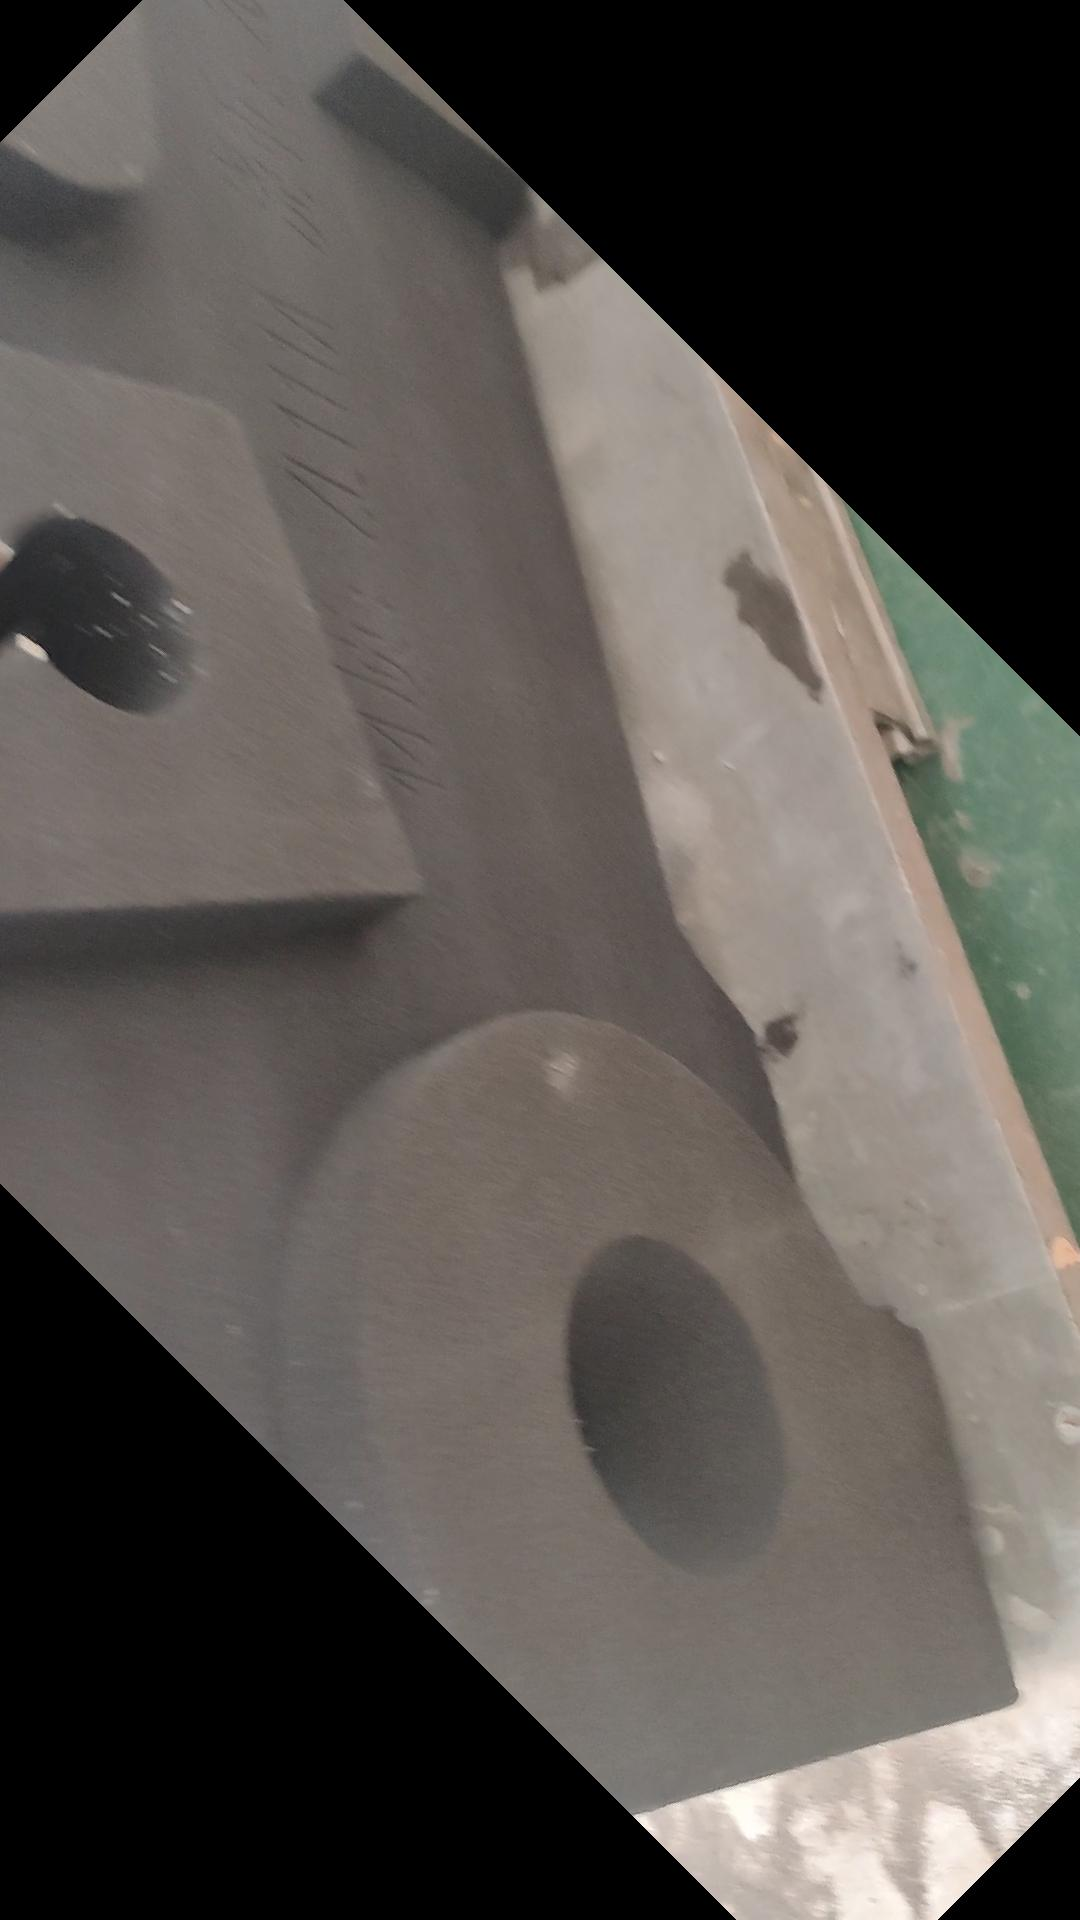pouring hole: (562, 1233, 793, 1582)
